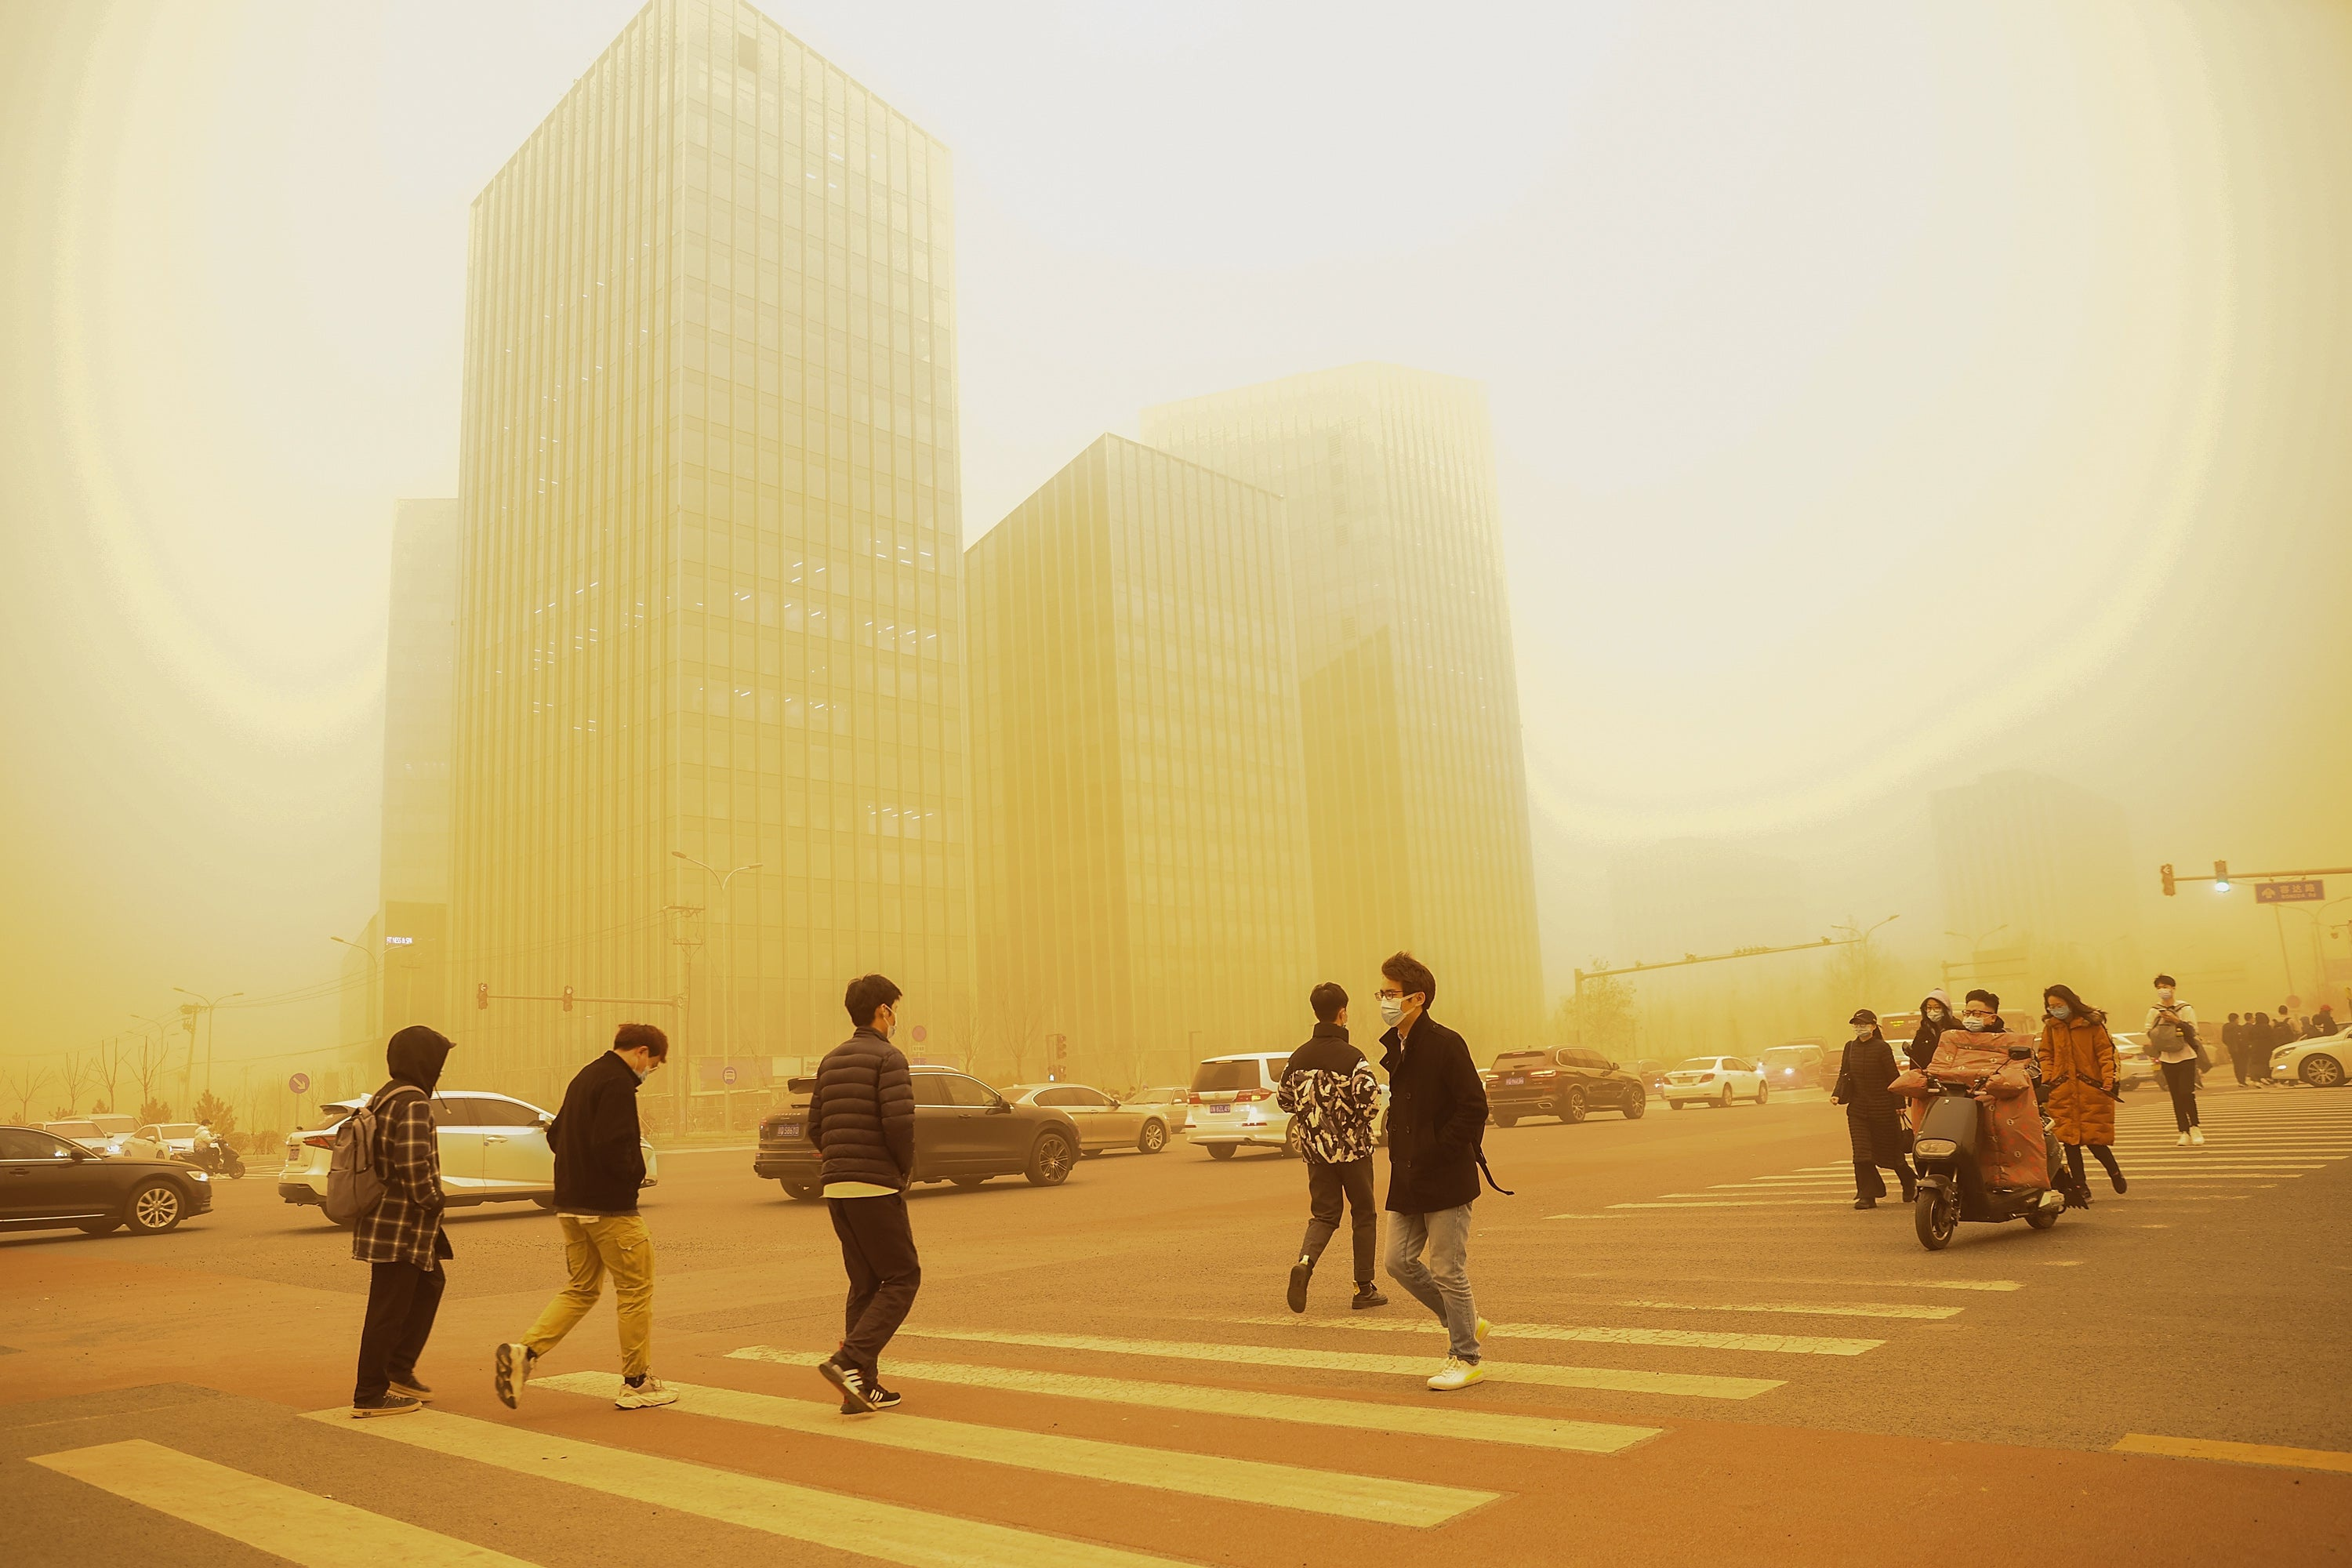person: (546, 1014, 665, 1417), (1377, 945, 1483, 1393), (814, 969, 916, 1419), (345, 1025, 442, 1421), (1298, 978, 1363, 1323), (2044, 982, 2118, 1201), (2148, 971, 2201, 1152), (1844, 1007, 1889, 1215)
